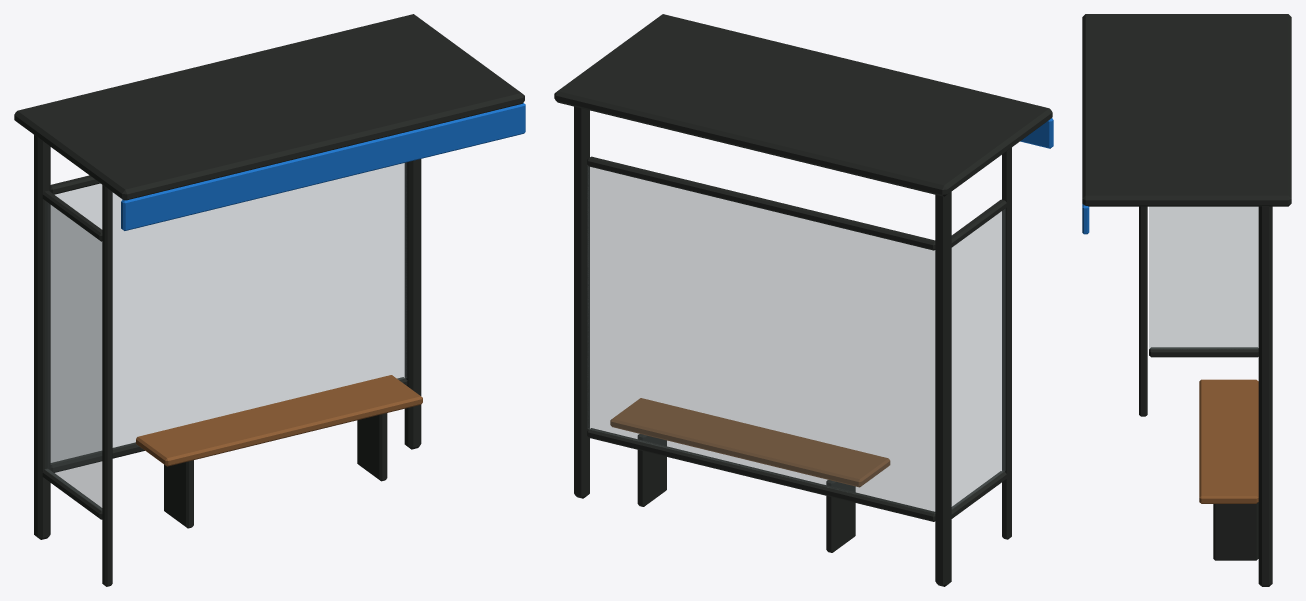
The model's file is parada_colectivo.glb.
3 renders of one model, left to right at view 1: azimuth 30°, elevation 25°; view 2: azimuth 150°, elevation 25°; view 3: azimuth 270°, elevation 25°, orthographic. The views are drawn at different scales.
Visible parts, largest first — view 1: parada_colectivo; view 2: parada_colectivo; view 3: parada_colectivo.
Part boxes in pixels (x1,y1,x2,y2): parada_colectivo: (14, 14, 525, 586); parada_colectivo: (554, 14, 1053, 586); parada_colectivo: (1082, 14, 1291, 586).
Size of what is drawn, in the model's own units: 2.5 by 2.5 by 1.2.
